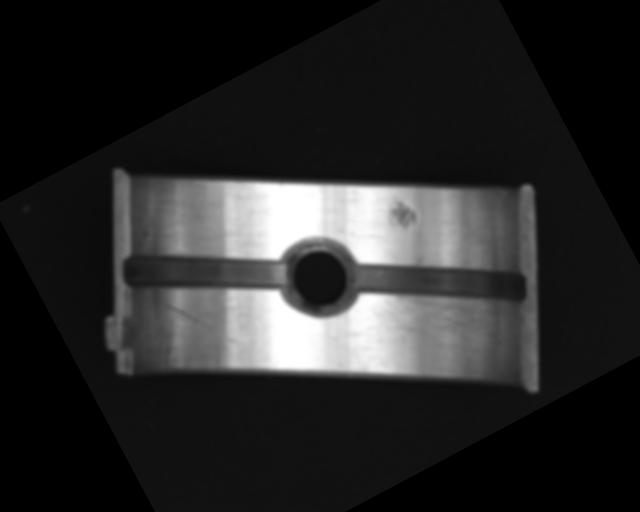bruise: (381, 189, 421, 234)
gap: (346, 198, 534, 366), (116, 193, 293, 349)
hole: (270, 225, 369, 327)
nick: (161, 279, 241, 368)
scratch: (367, 250, 517, 395)
